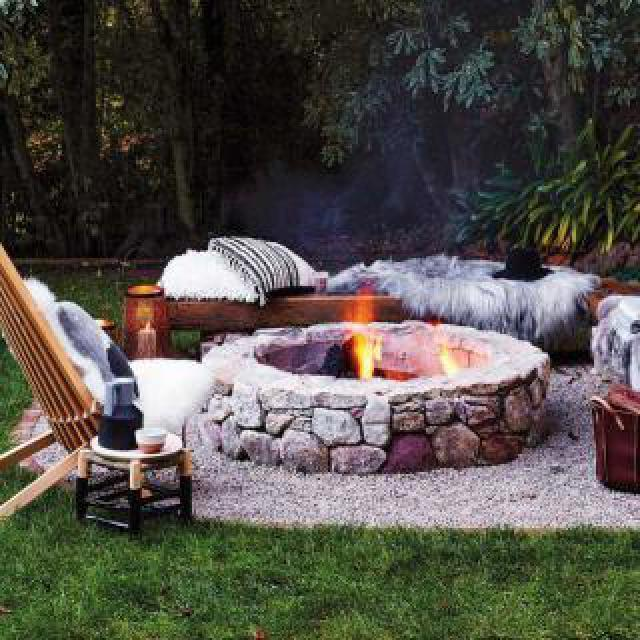Fire: (341, 286, 384, 378)
Smoke: (294, 188, 360, 262)
